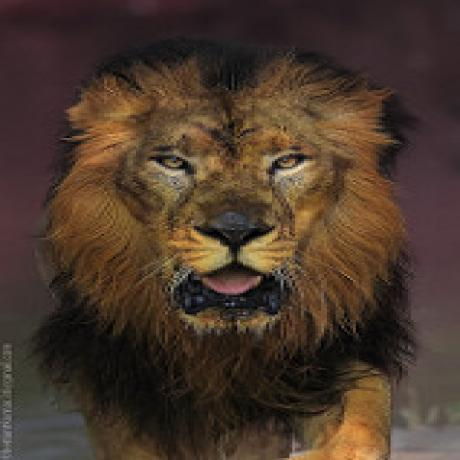Lion: (47, 24, 404, 460)
